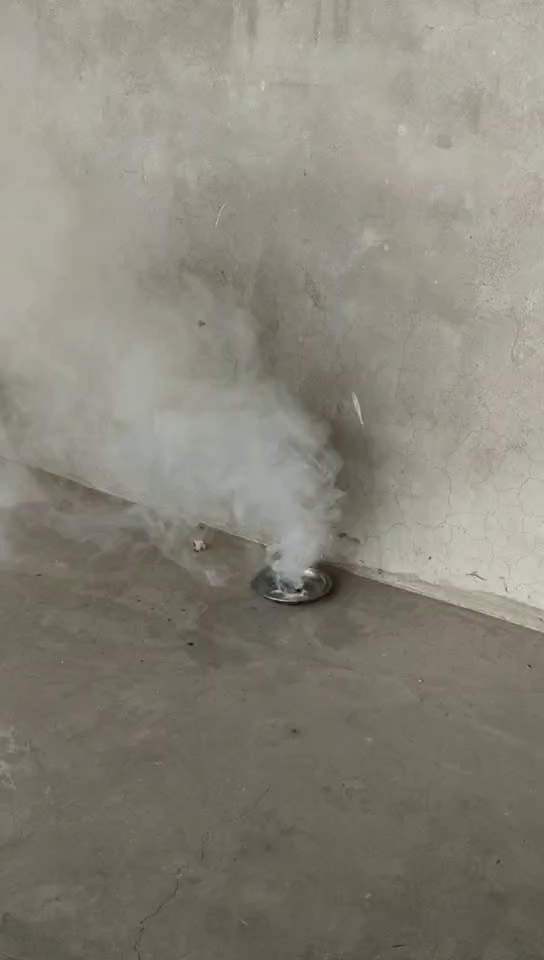yanwu: (77, 278, 341, 582)
